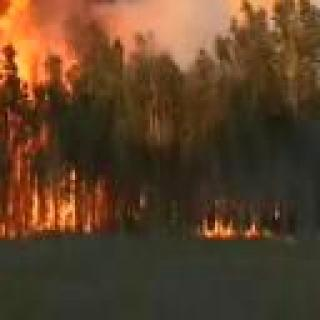fire: (0, 0, 111, 236), (197, 198, 279, 242)
